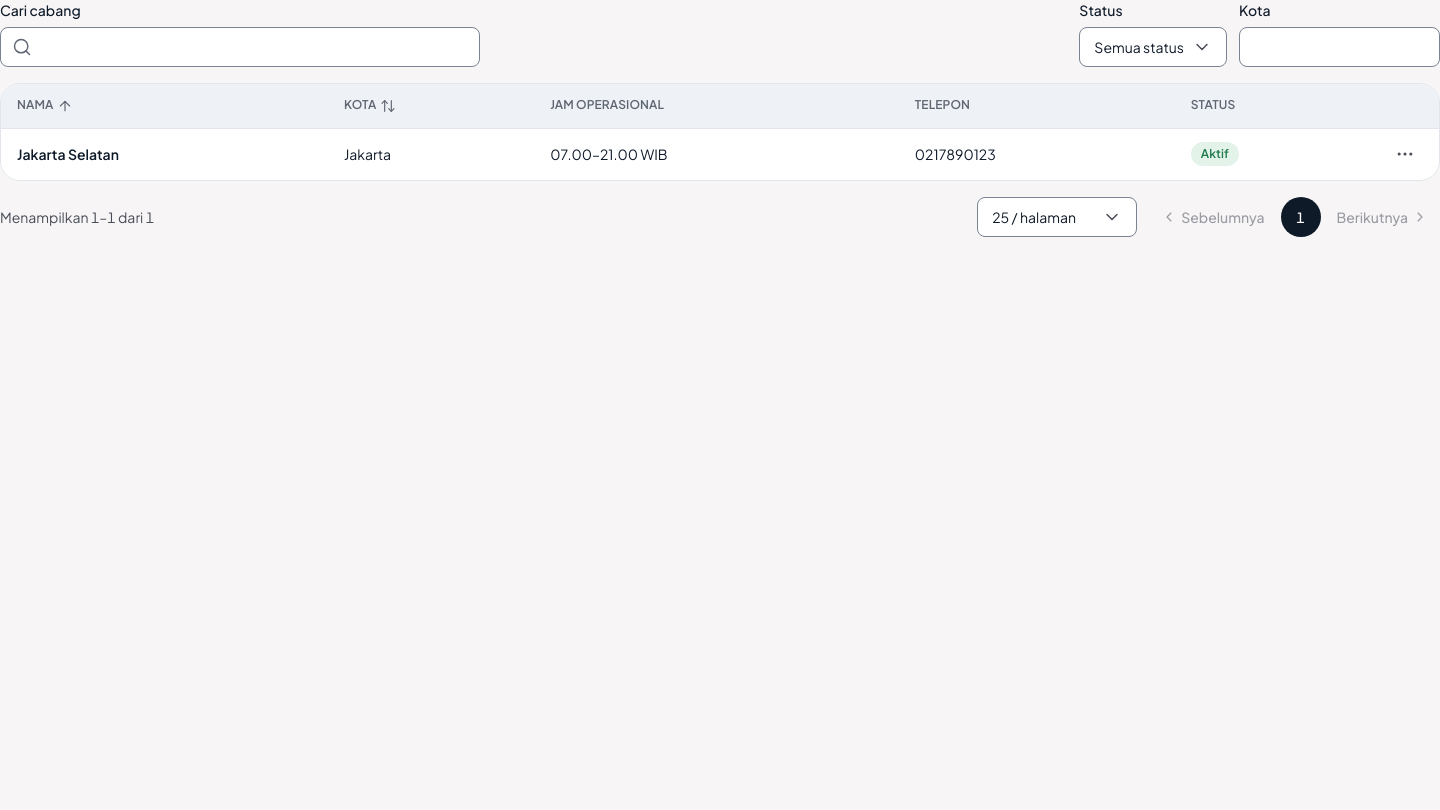
Test: BranchesPage for Staf › is read-only: no add, edit or delete, only a detail panel
Expected: the text "Jakarta Selatan" is shown, x1=17 y1=145 x2=119 y2=163
Click the button named "Aksi untuk Jakarta Selatan": (1405, 154) x1=1387 y1=136 x2=1423 y2=172
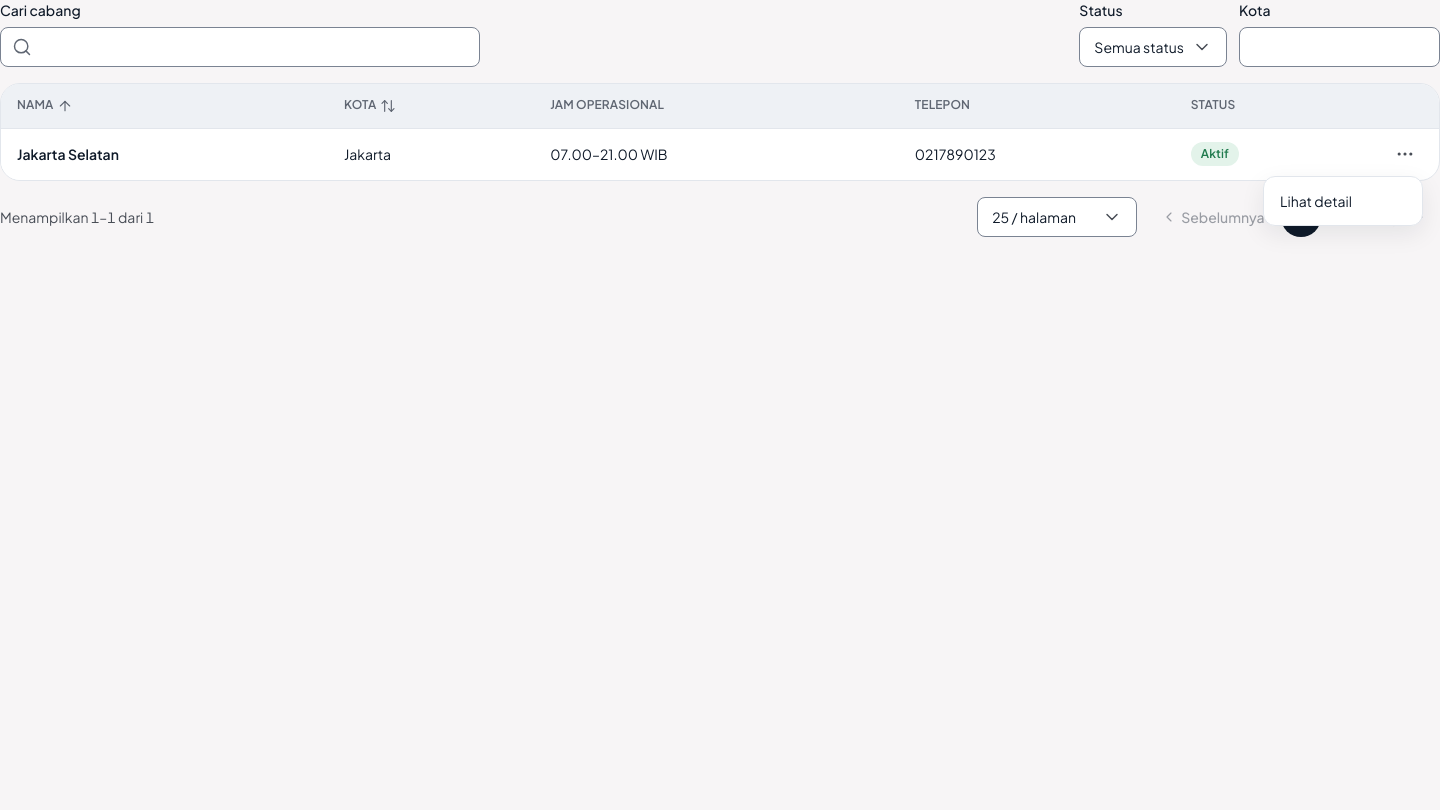
Expected: the menu item "Ubah" is not shown
Click the menu item "Lihat detail": (1316, 200) x1=1280 y1=192 x2=1352 y2=210
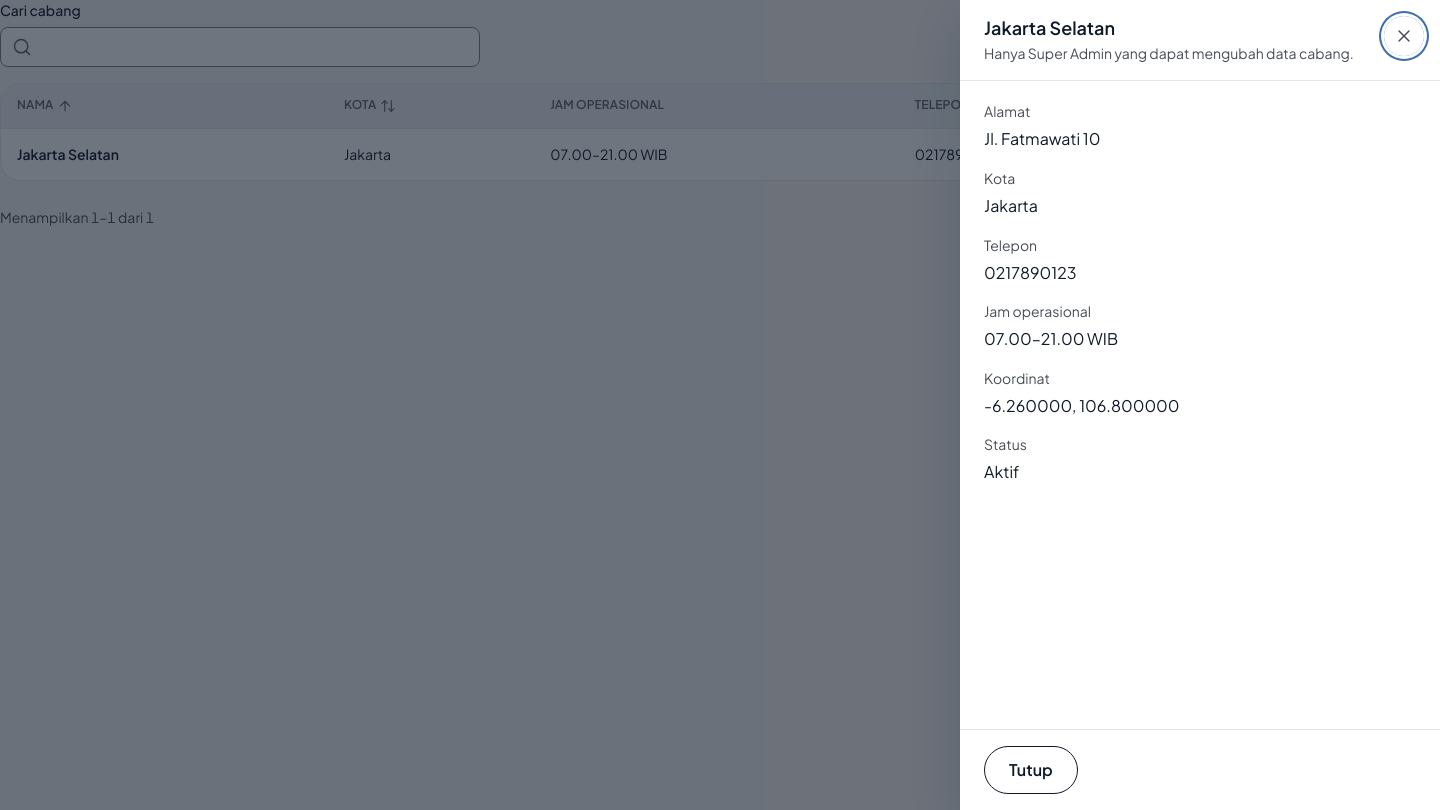
Expected: the text "07.00–21.00 WIB" is shown, x1=984 y1=328 x2=1118 y2=349
Expected: the text "-6.260000, 106.800000" is shown, x1=984 y1=395 x2=1180 y2=416
